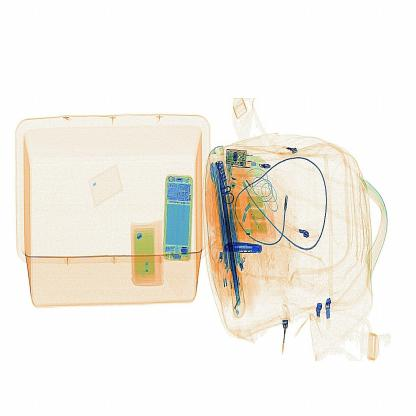knife: (222, 230, 270, 265)
